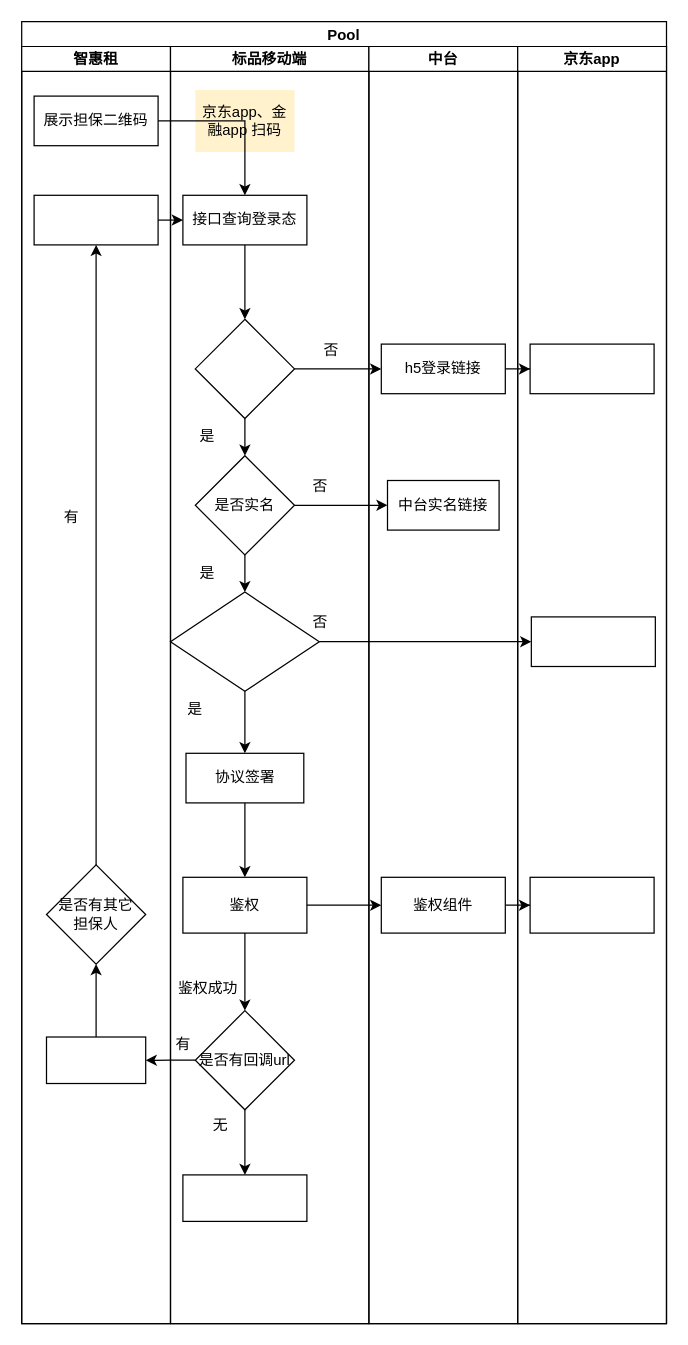
Some shapes in this 688 by 1345 pixel diagram are drawn without their labels. The centre of each missing label's shape, as x and y in pixels:
app人脸服务: pixel 591 904
app切换账号: pixel 592 641
唤起app登录: pixel 591 368
担保人与当前 用户是否一致: pixel 244 641
担保回调页面: pixel 95 1060
担保成功页面: pixel 244 1197
是否登录: pixel 244 368
页面跳转: pixel 95 219
